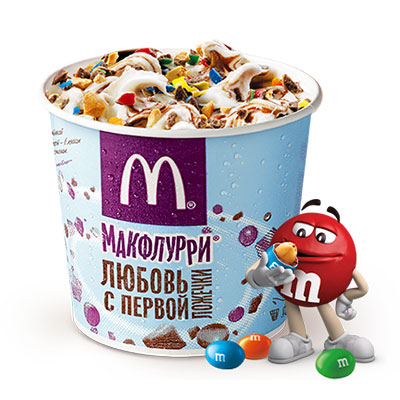mcdonalds: (115, 151, 187, 213)
